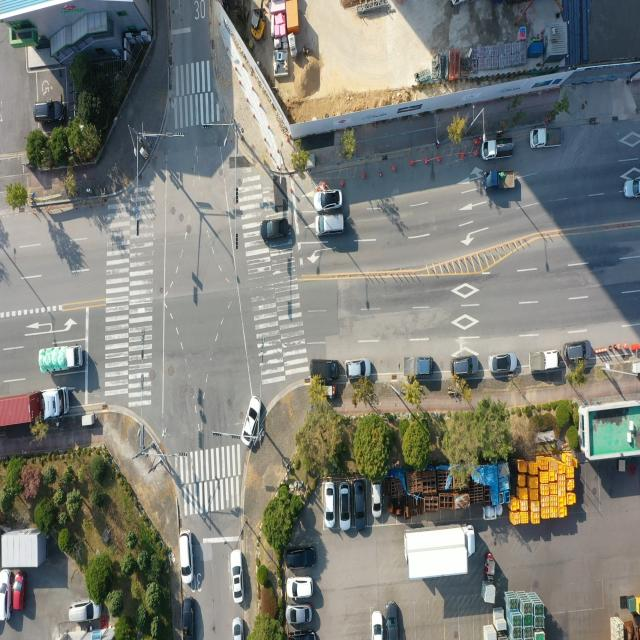car: (242, 396, 262, 446), (69, 600, 101, 626), (34, 100, 66, 125), (314, 212, 346, 236), (312, 357, 343, 381), (182, 534, 196, 587), (260, 217, 290, 241), (314, 188, 344, 211), (232, 552, 245, 604), (286, 549, 314, 573), (452, 354, 480, 377), (489, 353, 518, 375), (353, 482, 366, 530), (564, 342, 592, 364), (346, 357, 373, 379), (287, 578, 312, 600), (0, 568, 10, 622), (12, 570, 25, 611), (342, 483, 353, 530), (327, 484, 338, 530), (289, 606, 313, 626), (387, 602, 399, 640), (183, 595, 193, 637), (624, 177, 640, 200), (370, 484, 380, 519), (372, 612, 383, 640), (290, 631, 316, 640), (234, 618, 244, 640)
large_truck: (0, 388, 71, 431)
medium_truck: (402, 527, 474, 582), (38, 344, 86, 375)
small_truck: (528, 348, 561, 374), (481, 137, 515, 160), (402, 354, 434, 378), (483, 171, 517, 192), (530, 128, 562, 150)
